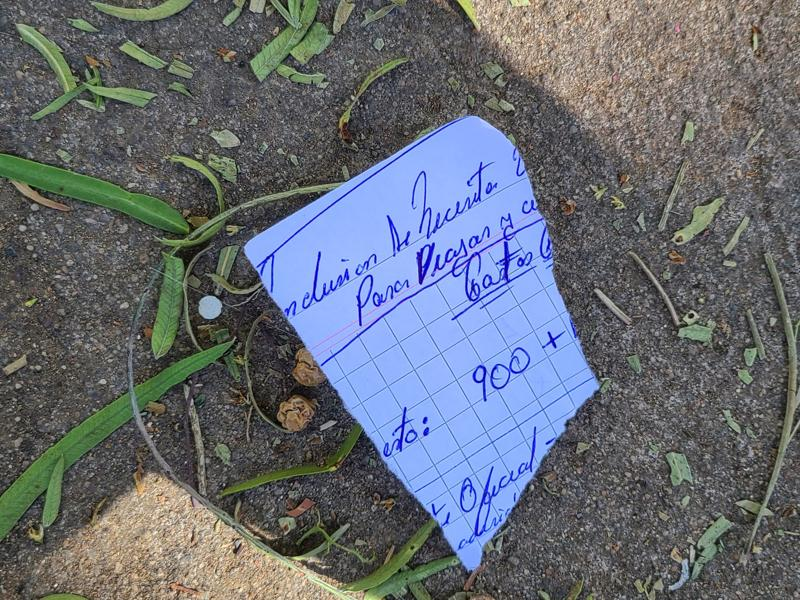papel: (240, 116, 599, 574)
